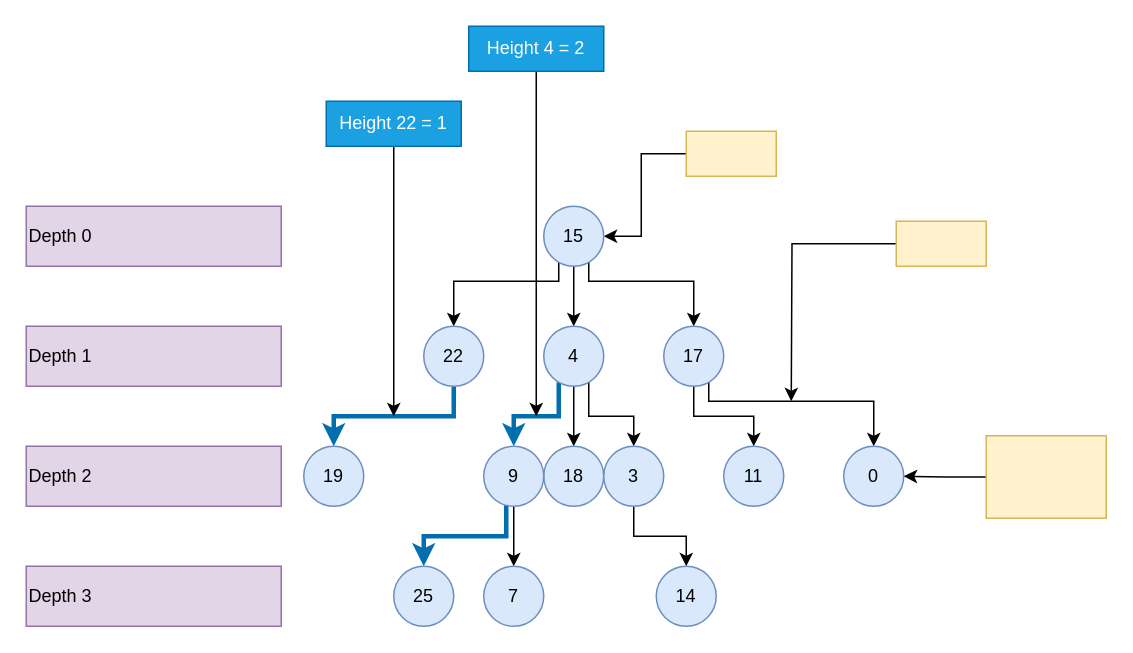
Some shapes in this 1133 by 653 pixel diagram are drawn without their labels. The shapes that lost their labels are listed below. From the top down, each one's box as (x1, y1, x2, y2) in pixels, then its label:
(685, 130, 776, 176): Root
(895, 220, 986, 266): Edge
(985, 434, 1106, 518): Leaf (No children)
